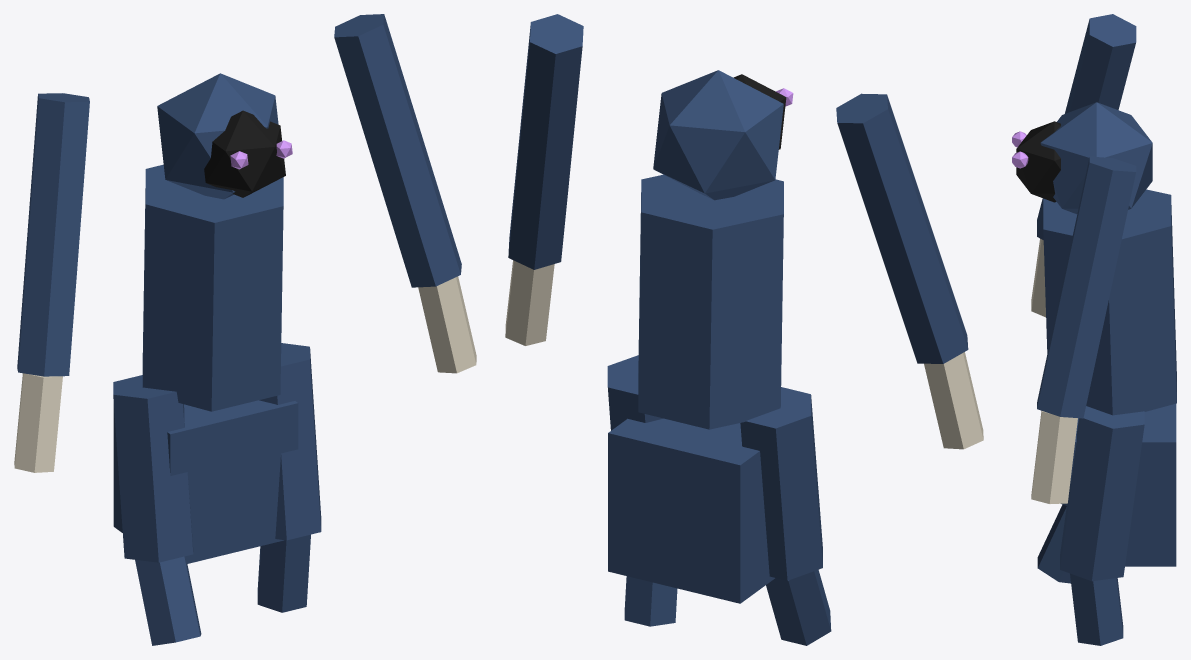
File: npcpose_wraith_walk_11.glb
3 renders of one model, left to right at view 1: azimuth 30°, elevation 25°; view 2: azimuth 150°, elevation 25°; view 3: azimuth 270°, elevation 25°, orthographic. The views are drawn at different scales.
Visible parts, largest first — view 1: npcpose; view 2: npcpose; view 3: npcpose.
Part boxes in pixels (left/top/right/bottom): npcpose: left=14, top=14, right=476, bottom=645; npcpose: left=505, top=14, right=983, bottom=645; npcpose: left=1012, top=14, right=1176, bottom=645.
Size of the model in its own units: 0.9388 by 1.08 by 0.3123.
